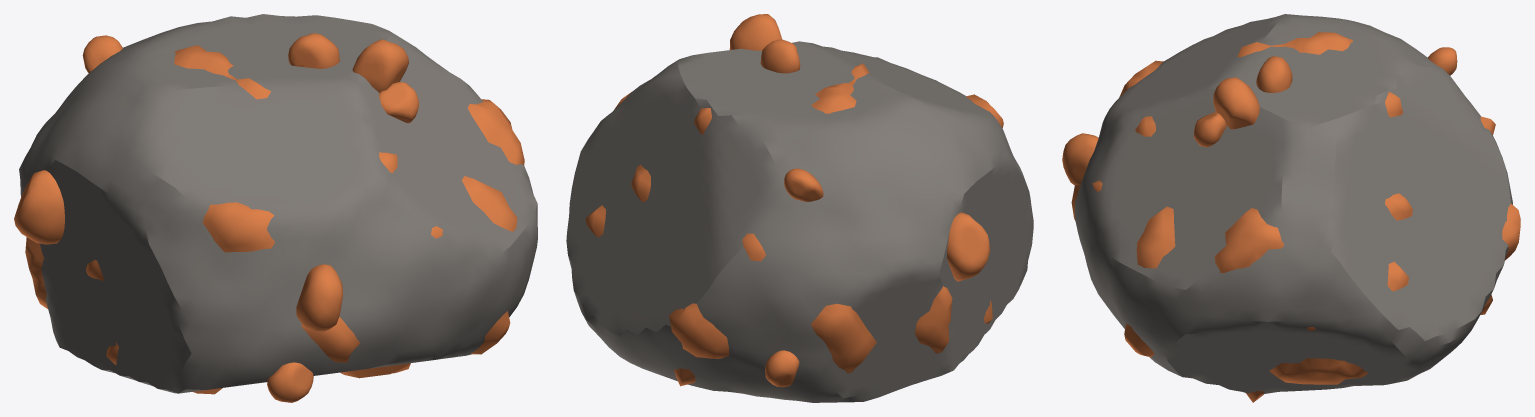
File: RockOre.fbx
3 views of the same model, side by side, from view 1: azimuth 30°, elevation 25°; view 2: azimuth 150°, elevation 25°; view 3: azimuth 270°, elevation 25° (orthographic). The views are drawn at different scales.
Parts seen in each view (by area): view 1: RockOre_Stone, RockOre_Ore; view 2: RockOre_Stone, RockOre_Ore; view 3: RockOre_Stone, RockOre_Ore.
Boxes of the visible parts, box(x1,y1,x2,y2) form: RockOre_Stone: box(19, 14, 537, 393); RockOre_Ore: box(14, 33, 524, 402); RockOre_Stone: box(566, 41, 1033, 402); RockOre_Ore: box(585, 14, 1003, 387); RockOre_Stone: box(1075, 14, 1512, 394); RockOre_Ore: box(1062, 32, 1520, 402).
Size of the model in its own units: 216 by 161 by 211.
